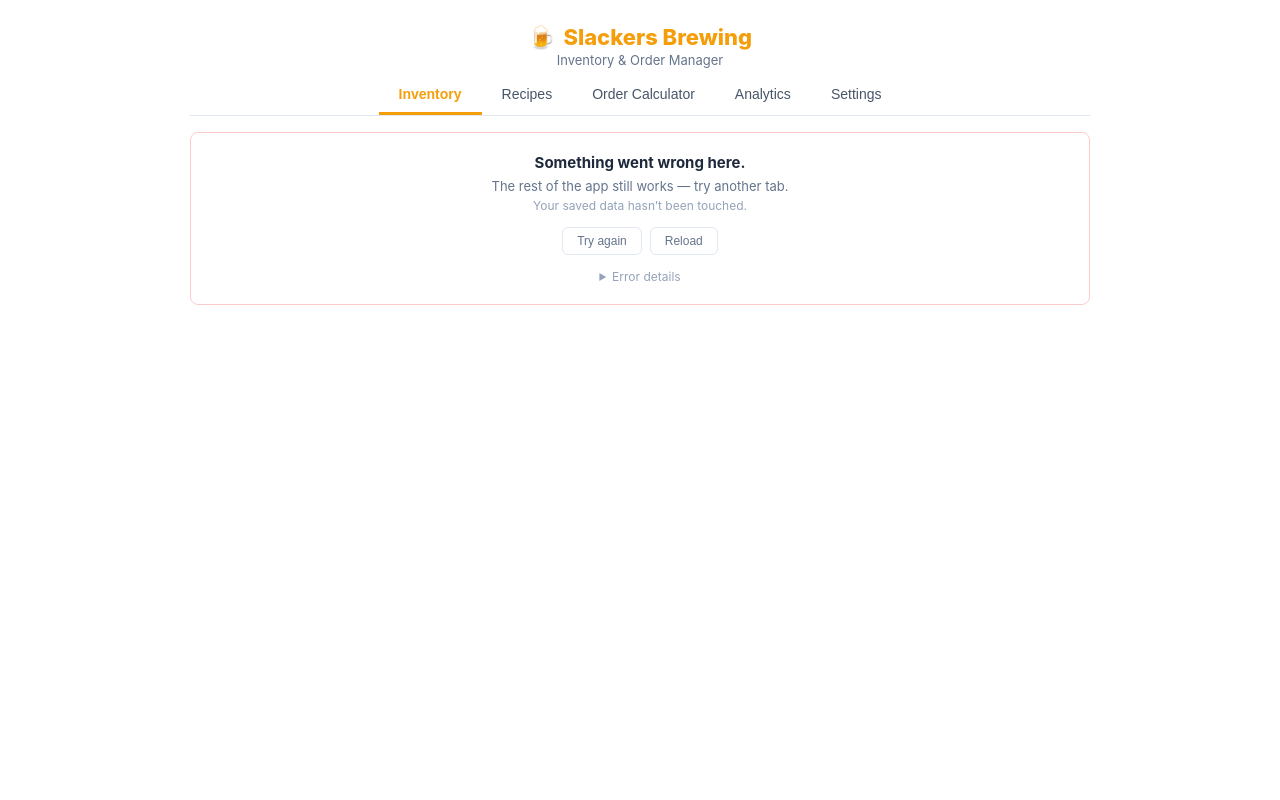
Test: App crash containment › lets the brewer escape to a working tab
Expected: the text "Something went wrong here." is shown, [535, 153, 745, 172]
Note: Boundary is keyed by tab, so navigating away remounts it clean.
Click the button "Settings": (856, 96) [811, 76, 902, 115]
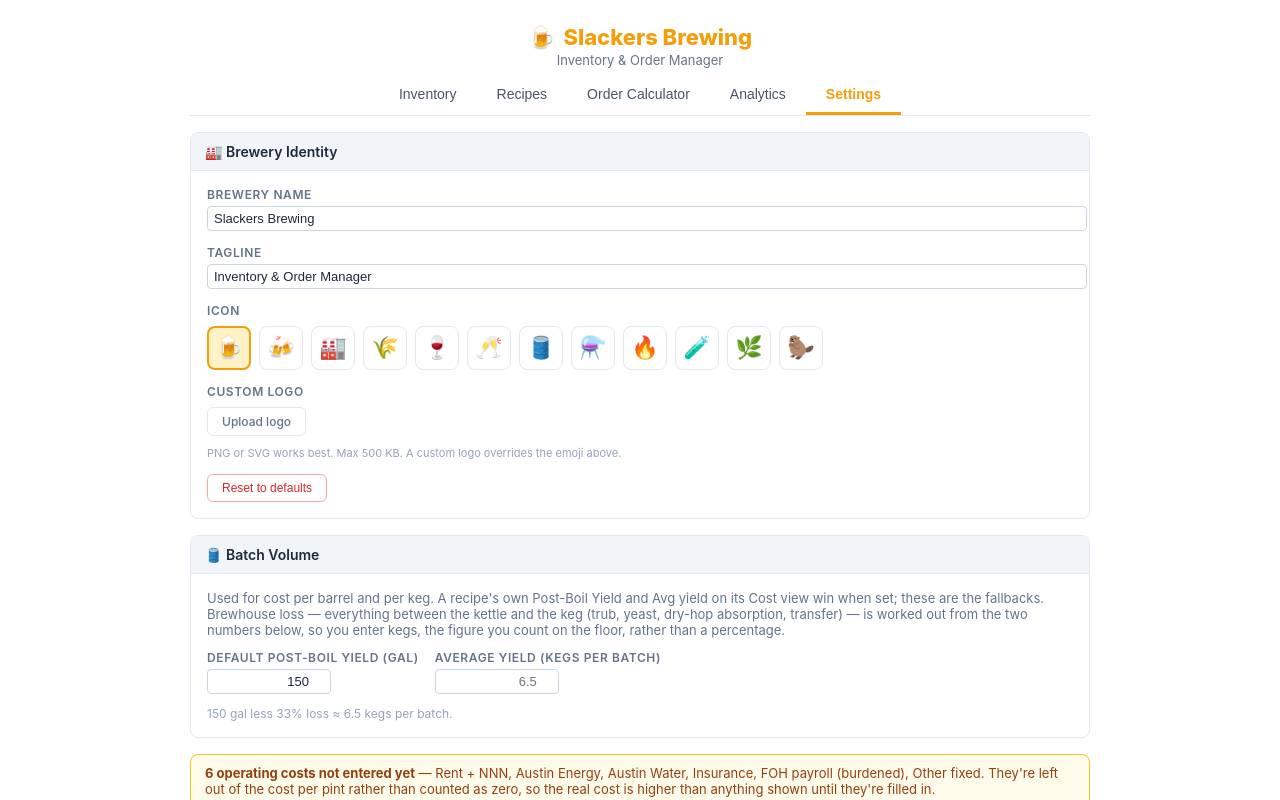
Result: the text "Something went wrong here." is gone
